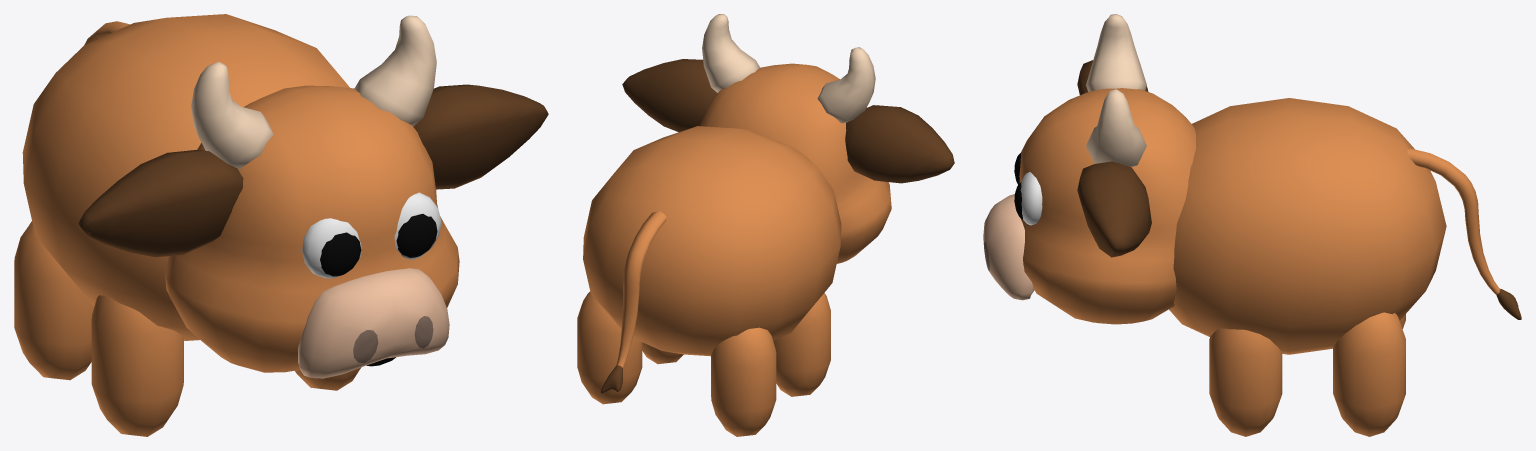
Rendered from Vaca.fbx.
3 renders of one model, left to right at view 1: azimuth 30°, elevation 25°; view 2: azimuth 150°, elevation 25°; view 3: azimuth 270°, elevation 25°, orthographic. The views are drawn at different scales.
Parts seen in each view (by area): view 1: Cabeza.002, Cabeza.003, Cabeza.007, Cabeza.008, Cabeza.005; view 2: Cabeza.003, Cabeza.002, Cabeza.008, Cabeza.006, Cabeza.007, Cabeza.004, Cabeza.005; view 3: Cabeza.003, Cabeza.002, Cabeza.006, Cabeza.005, Cabeza.004.
Boxes of the visible parts, x1,y1,x2,y2 form: Cabeza.002: (78,15,548,378); Cabeza.003: (22,14,349,340); Cabeza.007: (91,295,183,436); Cabeza.008: (14,221,93,380); Cabeza.005: (295,367,361,390); Cabeza.003: (583,126,841,356); Cabeza.002: (622,14,954,263); Cabeza.008: (711,327,776,436); Cabeza.006: (577,291,642,404); Cabeza.007: (773,293,830,396); Cabeza.004: (600,211,666,393); Cabeza.005: (642,342,683,364); Cabeza.003: (1169,98,1446,354); Cabeza.002: (983,14,1195,324); Cabeza.006: (1333,312,1405,436); Cabeza.005: (1209,328,1282,436); Cabeza.004: (1407,148,1521,319).
Bounding box in the file's own units: 1.95 × 1.72 × 2.43.
